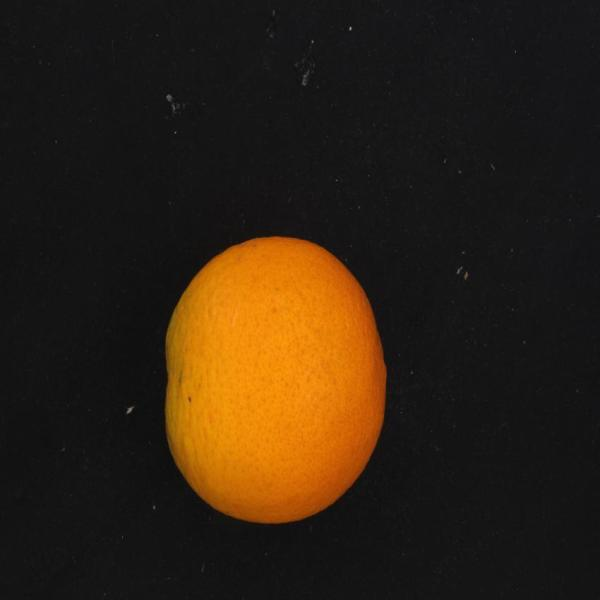Sana: (140, 216, 398, 542)
